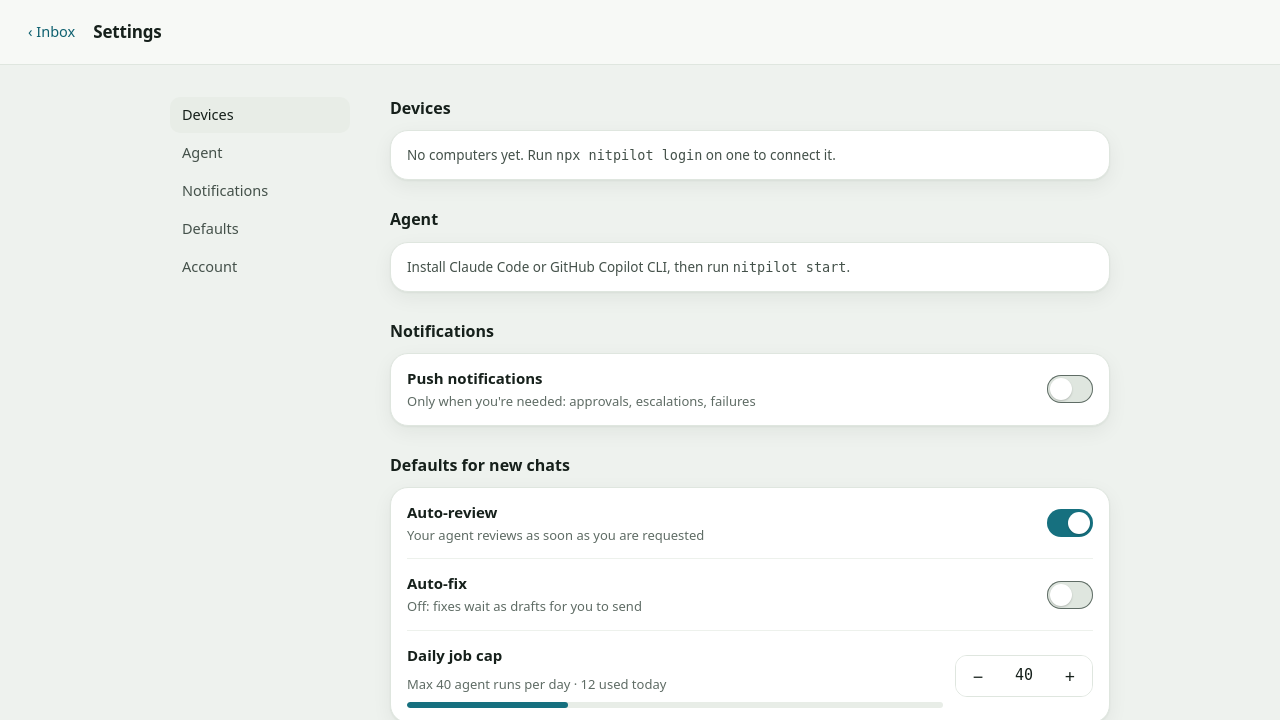
Test case: Defaults (handoff §7 "Defaults for new chats") › does not let a read of you that was already on its way overwrite the cap you just saved
// ... and the save lands while it is still on its way.
Click the button named "Raise cap".
click(1070, 676)  # box 1048,656 -> 1092,696
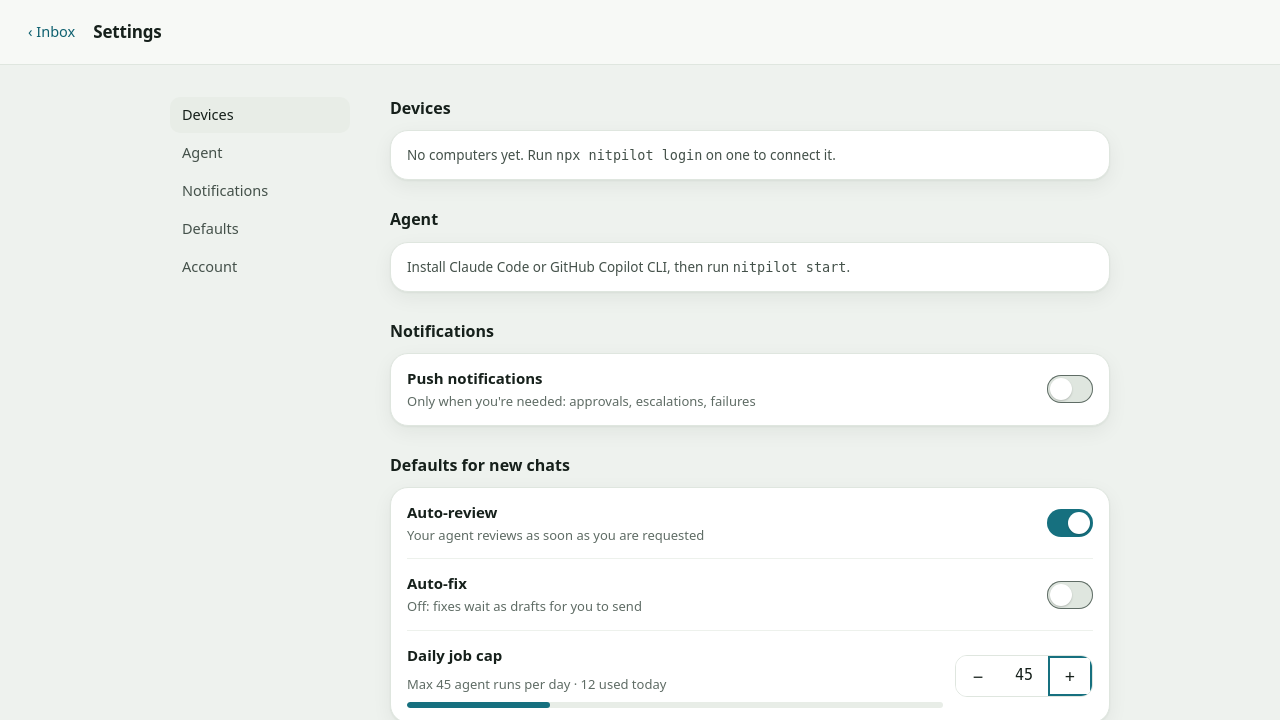
Now the text "Max 45 agent runs per day · 12 used today" is shown, box 407,675 -> 666,693
